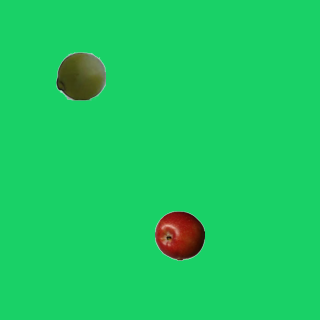Apple Braeburn: (154, 210, 204, 260)
Grape White 4: (55, 50, 105, 100)
